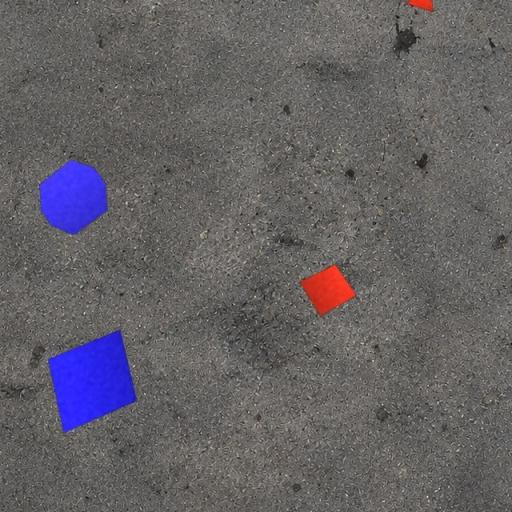BLUE_SQUARE: (47, 328, 138, 434)
RED_SQUARE: (298, 263, 358, 317)
